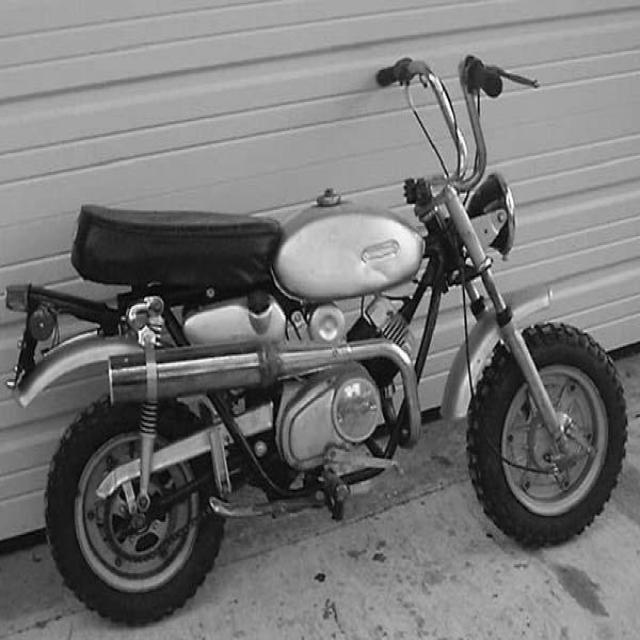Motorcycle: (8, 56, 628, 624)
